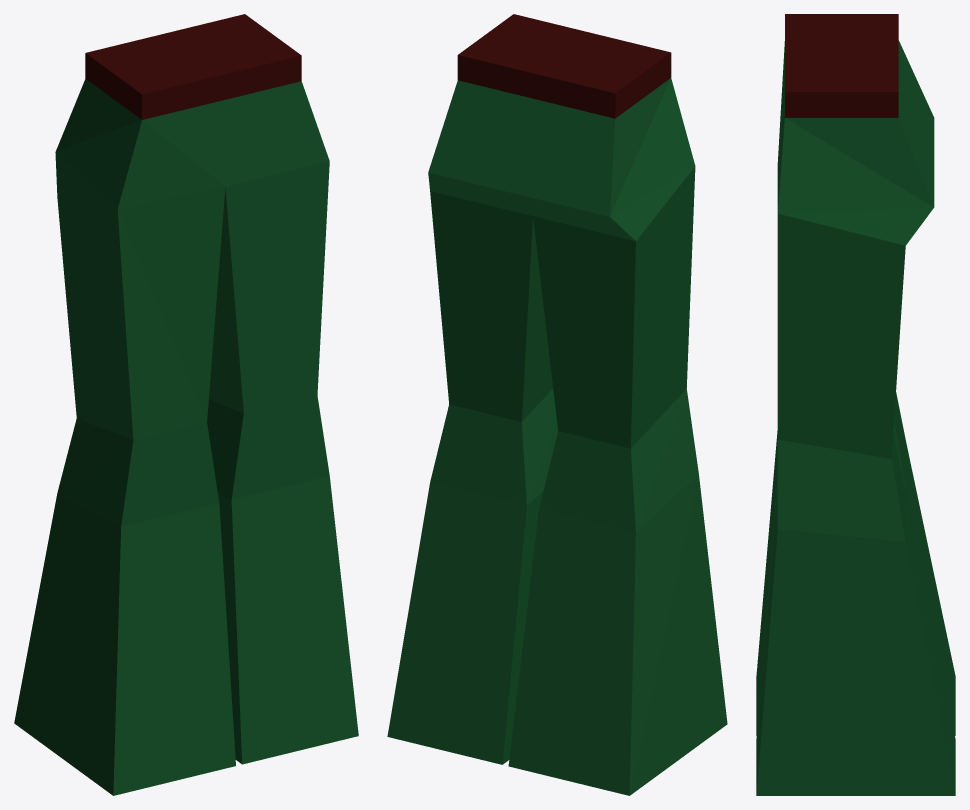
The model's file is model_267_idk.obj.
The picture shows the model from 3 angles, left to right: view 1: azimuth 30°, elevation 25°; view 2: azimuth 150°, elevation 25°; view 3: azimuth 270°, elevation 25°; orthographic projection.
Visible parts, largest first — view 1: 267; view 2: 267; view 3: 267.
Boxes of the visible parts, left/top/right/bottom form: 267: left=14, top=14, right=358, bottom=795; 267: left=387, top=14, right=727, bottom=795; 267: left=756, top=14, right=955, bottom=795.
Bounding box in the file's own units: 40 × 106 × 28.
